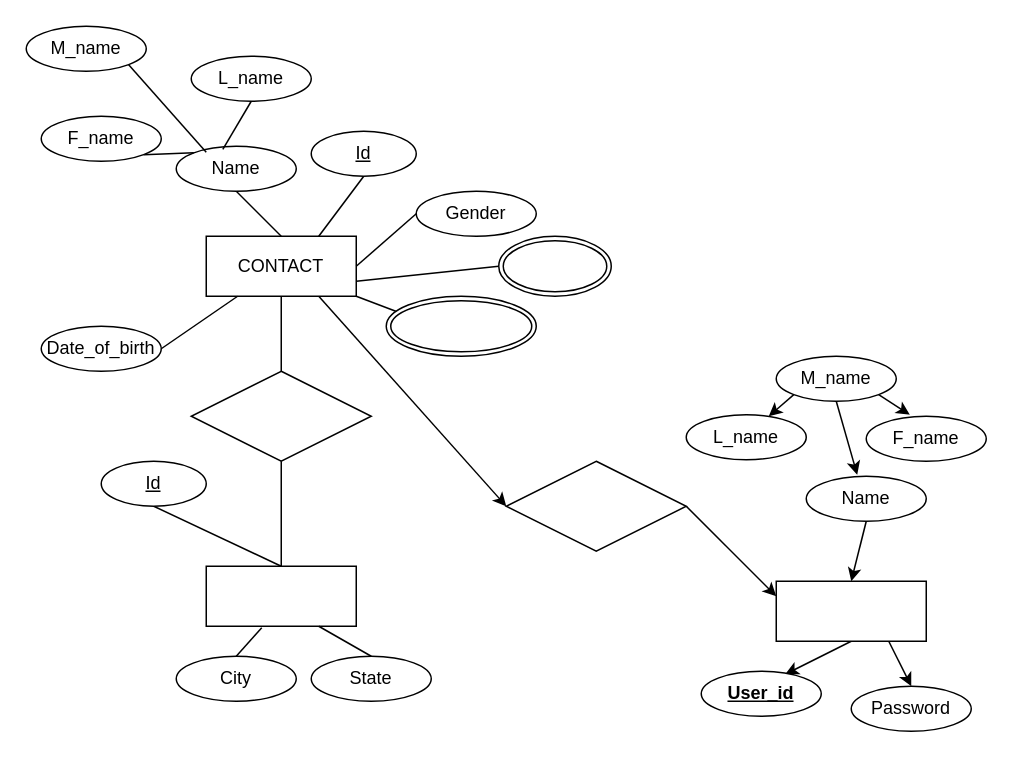
Some shapes in this 1013 by 758 pixel diagram are drawn without their labels. The box of each missing label's shape, as (x1, y1, x2, y2) in pixels:
Contact_number: (385, 295, 536, 356)
Email: (497, 235, 611, 296)
HAS: (190, 370, 371, 461)
MANAGED _BY: (505, 460, 686, 551)
STATEWISE _CITY: (205, 565, 356, 626)
USER: (775, 580, 926, 641)
